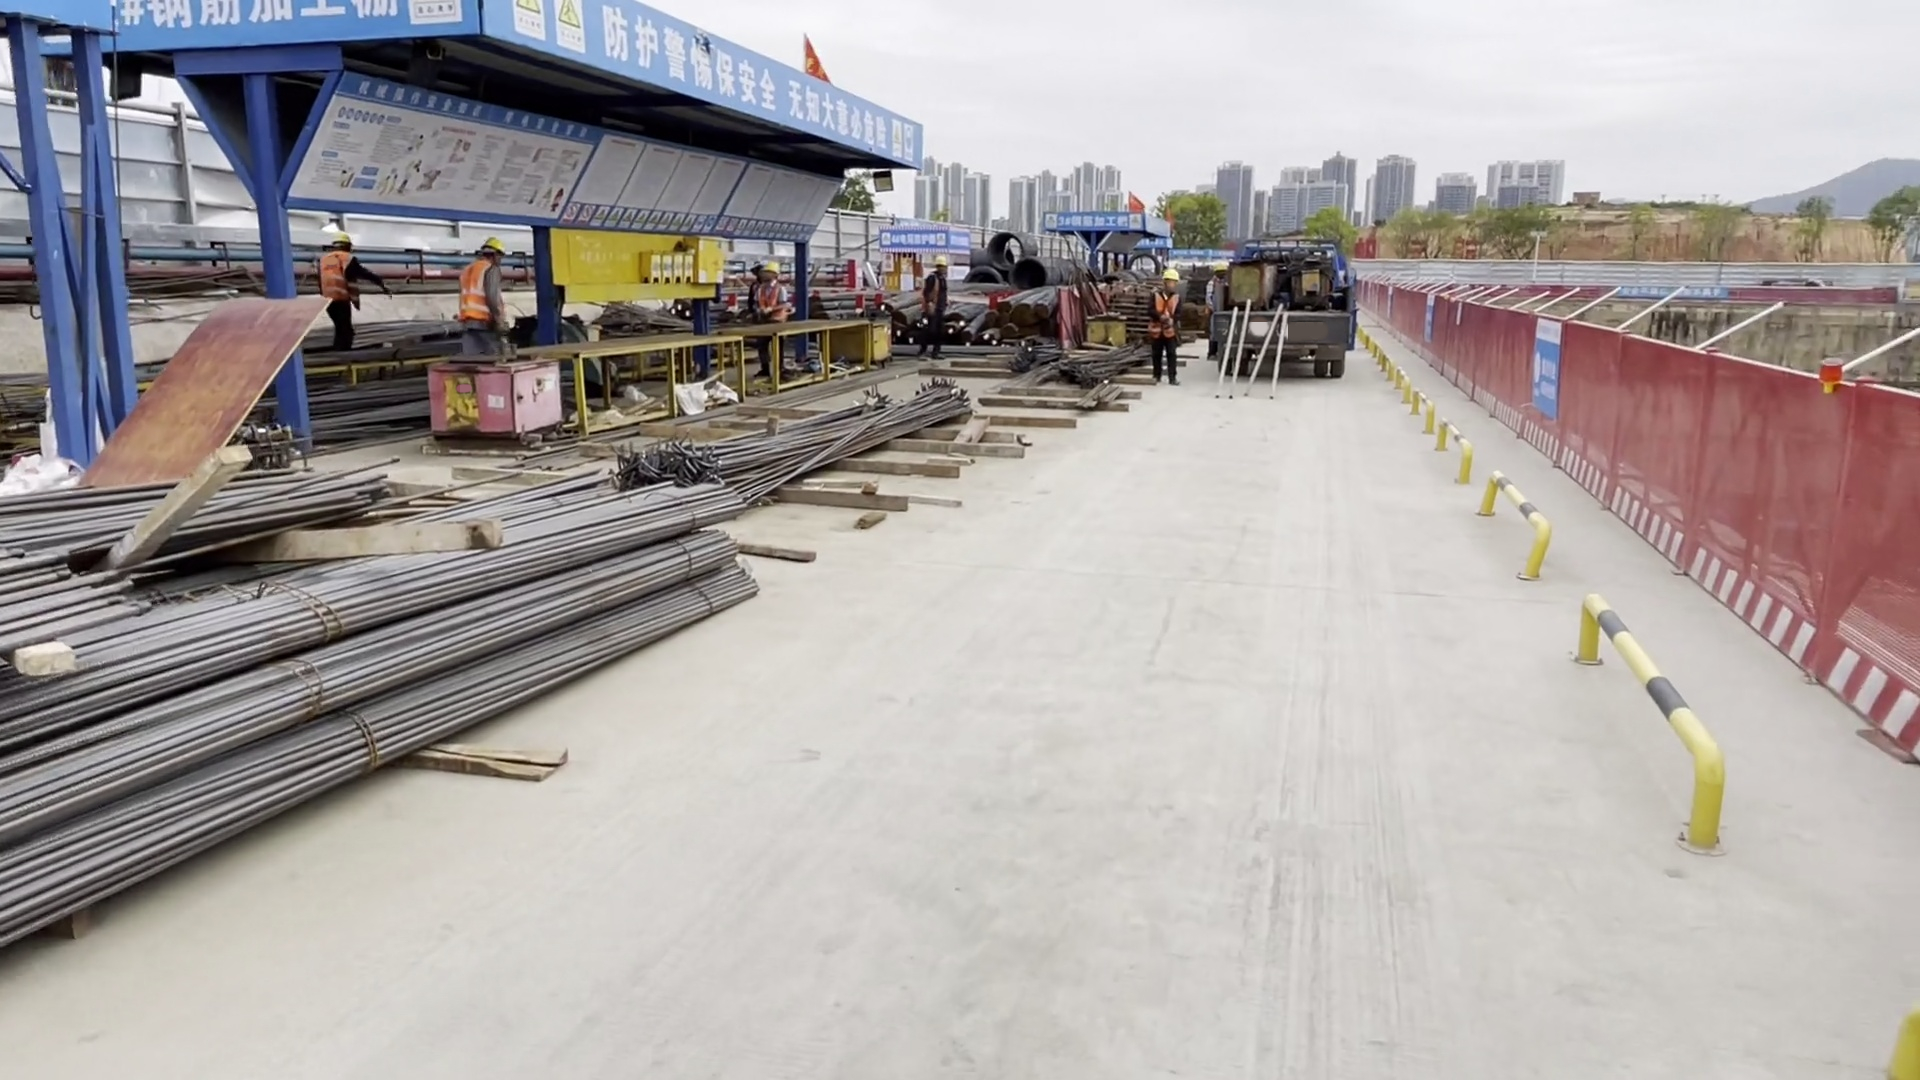board: (86, 304, 314, 480)
ebox: (642, 233, 725, 288), (1299, 268, 1323, 295)
fence: (1633, 369, 1920, 635), (1738, 288, 1913, 320)
helmet: (332, 232, 353, 246), (1163, 265, 1179, 282), (484, 237, 502, 252), (761, 262, 779, 276), (1212, 260, 1230, 272)
person: (458, 237, 513, 362), (312, 223, 361, 344), (751, 261, 789, 378), (1153, 262, 1183, 386), (919, 253, 949, 360), (1203, 257, 1231, 361)
rebar: (1, 481, 761, 947), (618, 382, 992, 495)
slogan: (507, 1, 918, 169), (123, 1, 471, 36), (1531, 329, 1565, 425), (1047, 213, 1136, 229), (883, 232, 948, 252)
vest: (458, 262, 505, 329), (322, 252, 352, 299), (1154, 291, 1180, 343), (757, 282, 786, 324), (922, 273, 947, 321), (1207, 277, 1222, 316), (934, 255, 947, 268)
